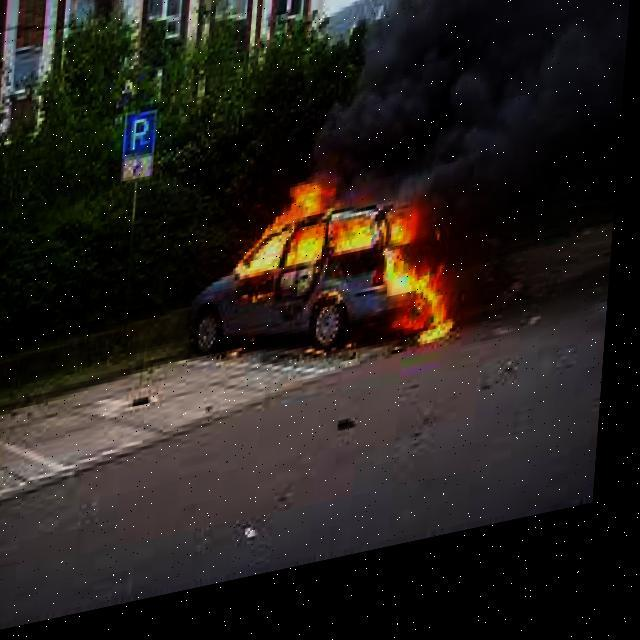Fire: (354, 192, 486, 388), (235, 165, 358, 300)
